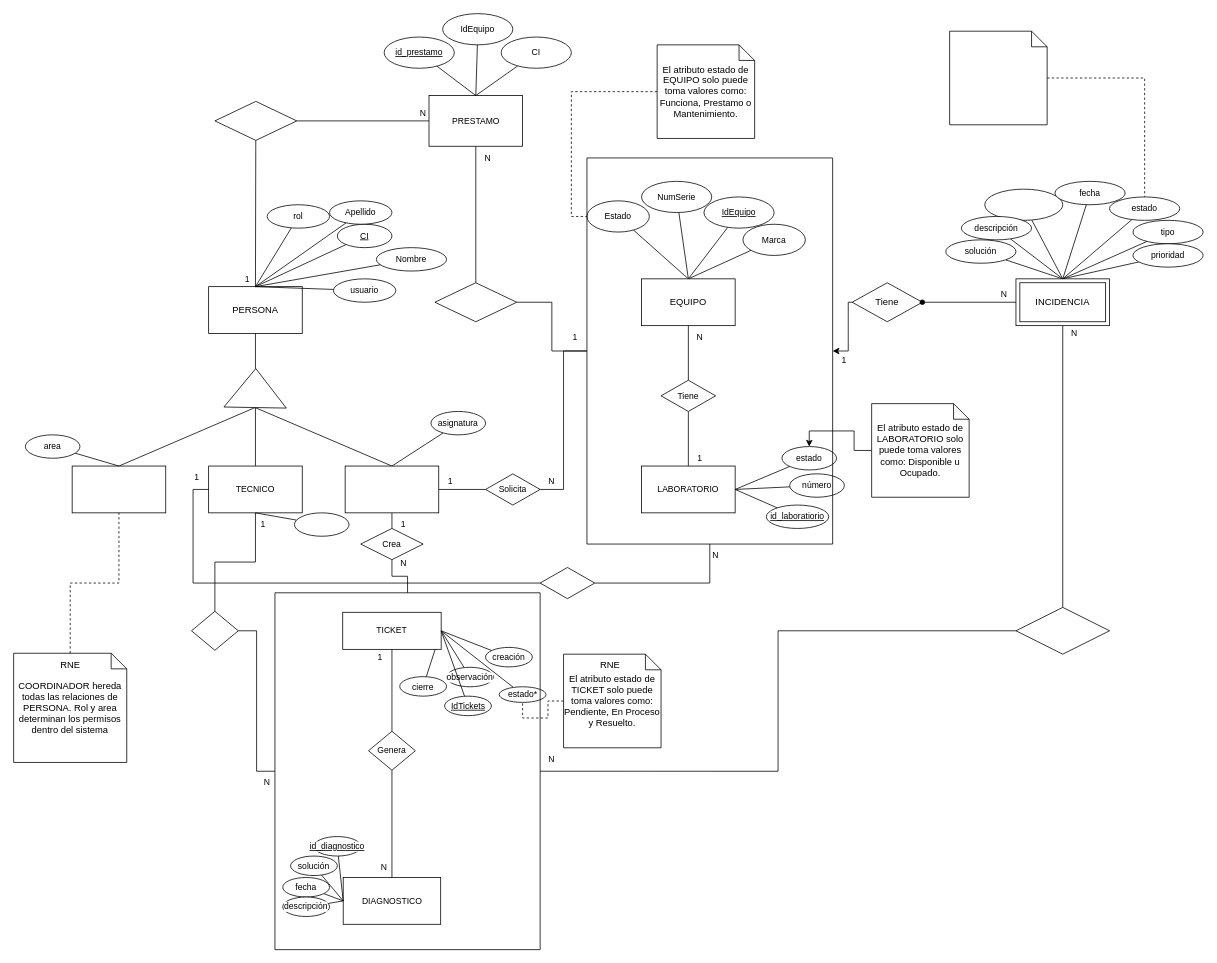
Some shapes in this 1217 by 963 pixel diagram are drawn without their labels. Each missing label, with the centre of its shape:
"Atiende" goes at [214,630].
"COORDINADOR" goes at [118,489].
"Corresponde" goes at [475,302].
"DOCENTE" goes at [391,489].
"El atributo estado de INIDENCIA solo puede toma valores como: Activa o Cerrada." goes at [998,77].
"especialidad" goes at [321,524].
"id_incidencia" goes at [1023,204].
"Prepara" goes at [567,583].
"Realiza" goes at [255,120].
"Reporta" goes at [1062,630].
